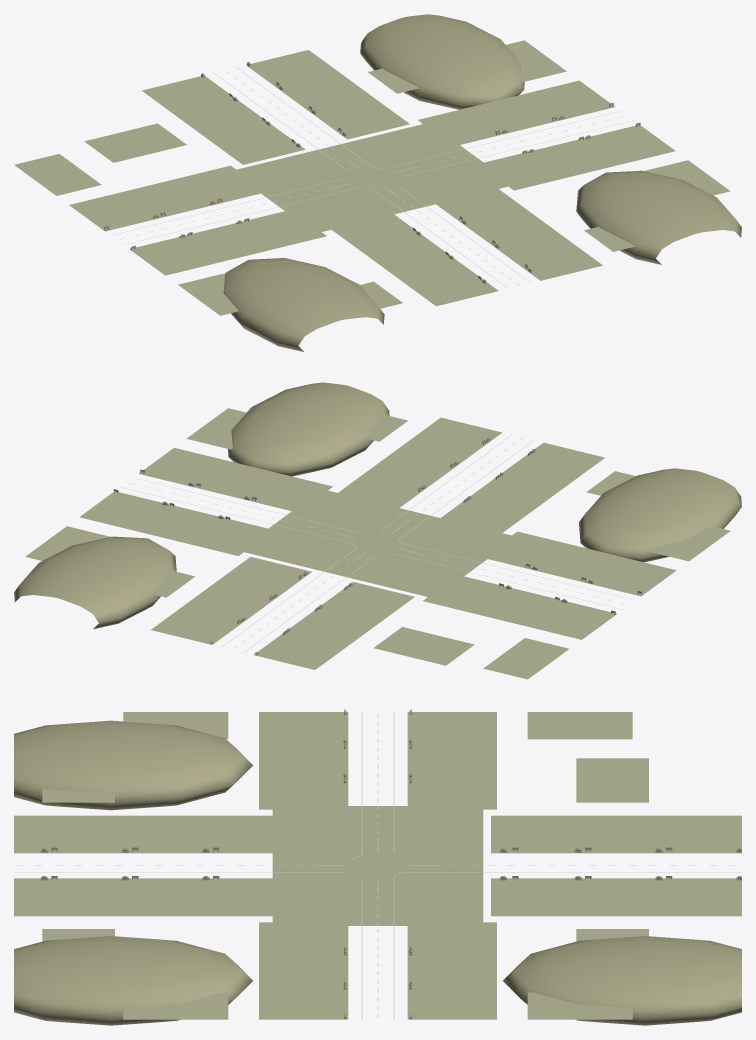
3 views of the same model, one above another, from view 1: azimuth 30°, elevation 25°; view 2: azimuth 150°, elevation 25°; view 3: azimuth 270°, elevation 25° (orthographic). The views are drawn at different scales.
Visible parts, largest first — view 1: static; view 2: static; view 3: static.
Part boxes in pixels (x1,y1,x2,y2): static: (14,14,741,351); static: (14,382,741,679); static: (14,708,741,1025).
Size of what is drawn, in the model's own units: 180 by 14.08 by 180.
